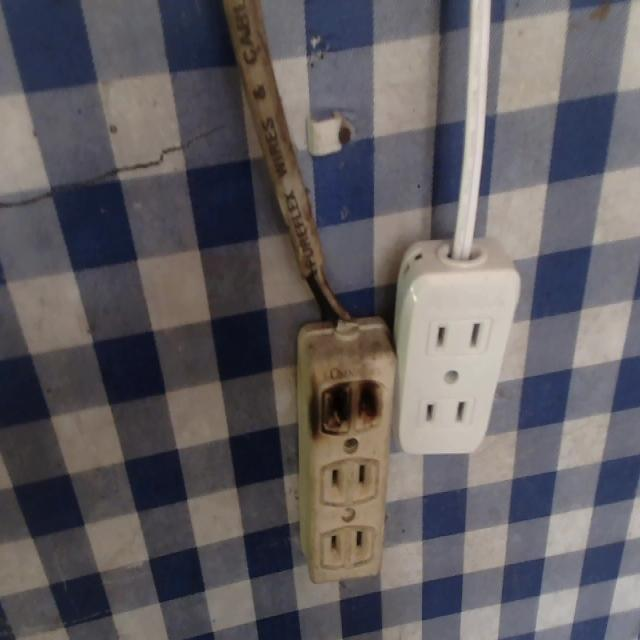-: (318, 361, 385, 443)
